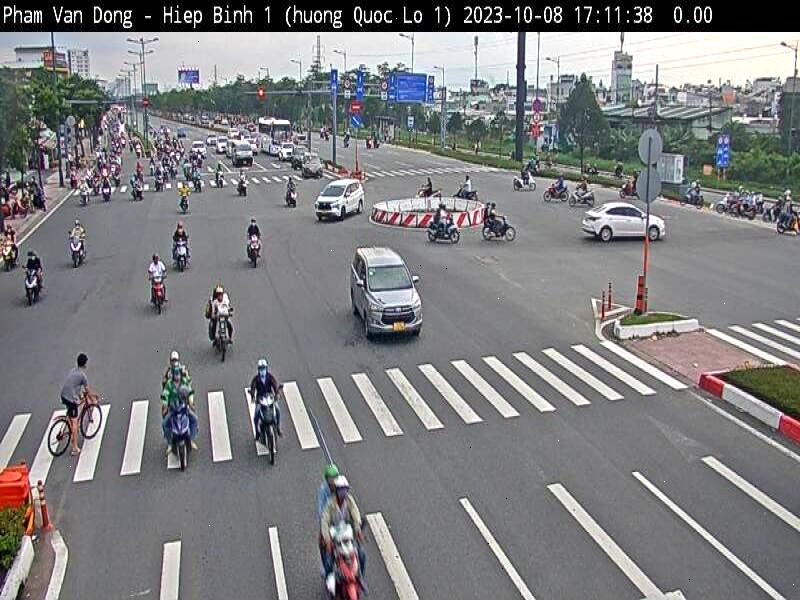car: (348, 247, 427, 348), (580, 196, 660, 250), (310, 177, 368, 228), (300, 150, 324, 184)
motorcycle: (311, 518, 376, 600), (150, 386, 204, 474), (247, 386, 285, 472), (202, 303, 239, 370), (427, 218, 466, 249), (478, 218, 522, 244), (19, 270, 49, 304), (70, 233, 94, 271), (169, 238, 193, 272), (246, 233, 265, 271), (150, 271, 166, 316), (566, 190, 598, 206), (540, 185, 568, 200), (283, 186, 299, 212), (177, 193, 192, 212)
